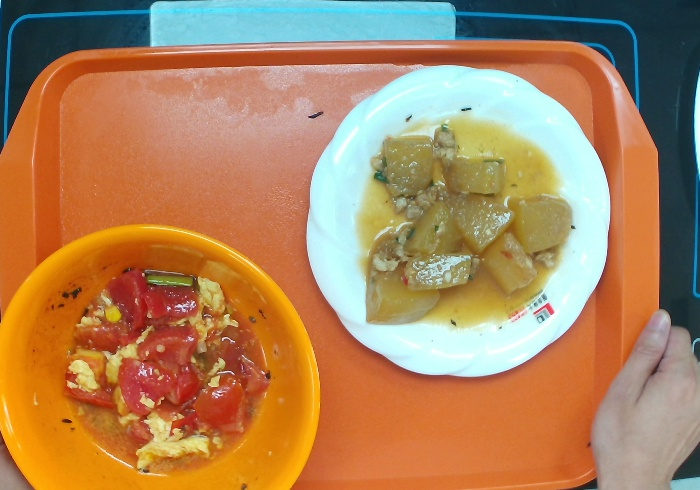ZNLD-Hua_Bian_Wan: (303, 59, 615, 382)
ZNLD-Ju_Se_Tang_Wan: (1, 222, 323, 490)
